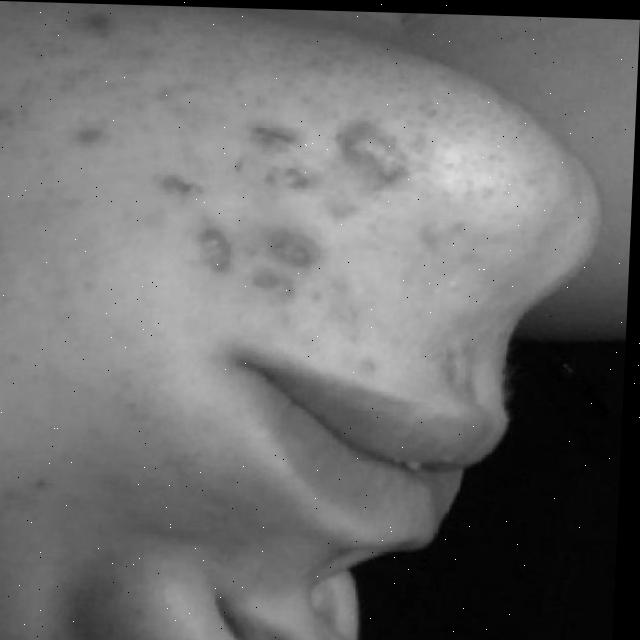Acne: (171, 139, 438, 275)
